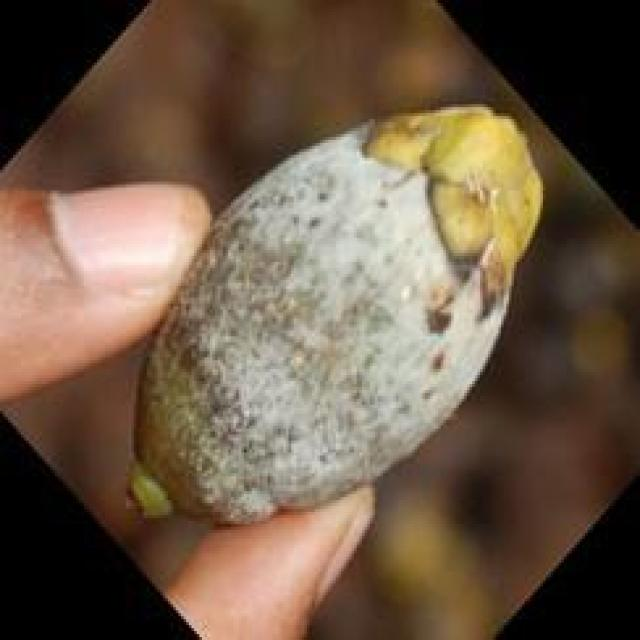damaged: (126, 104, 546, 530)
